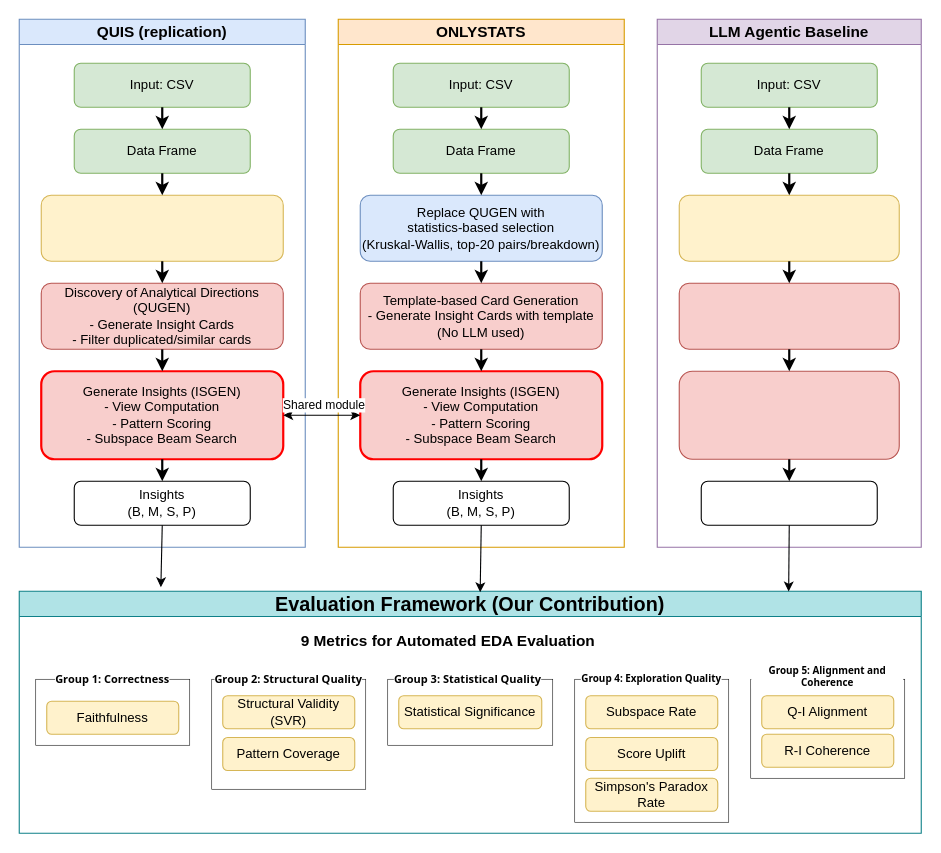
This 941x853 diagram has some shape labels left out. The centre of each missing label's shape, as x and y in pixels:
"Basic Stats - Profiling (1) - Quality (2) - Statistic Agent (3)" belongs at [788,227].
"Basic Stats LLM" belongs at [161,227].
"Discovery of Analytical Directions - Pattern Discovery Agent (4)" belongs at [788,315].
"Generate Insights - Insight Extraction Agent (5)" belongs at [788,414].
"Insights (normalized to B, M, S, P)" belongs at [788,502].
